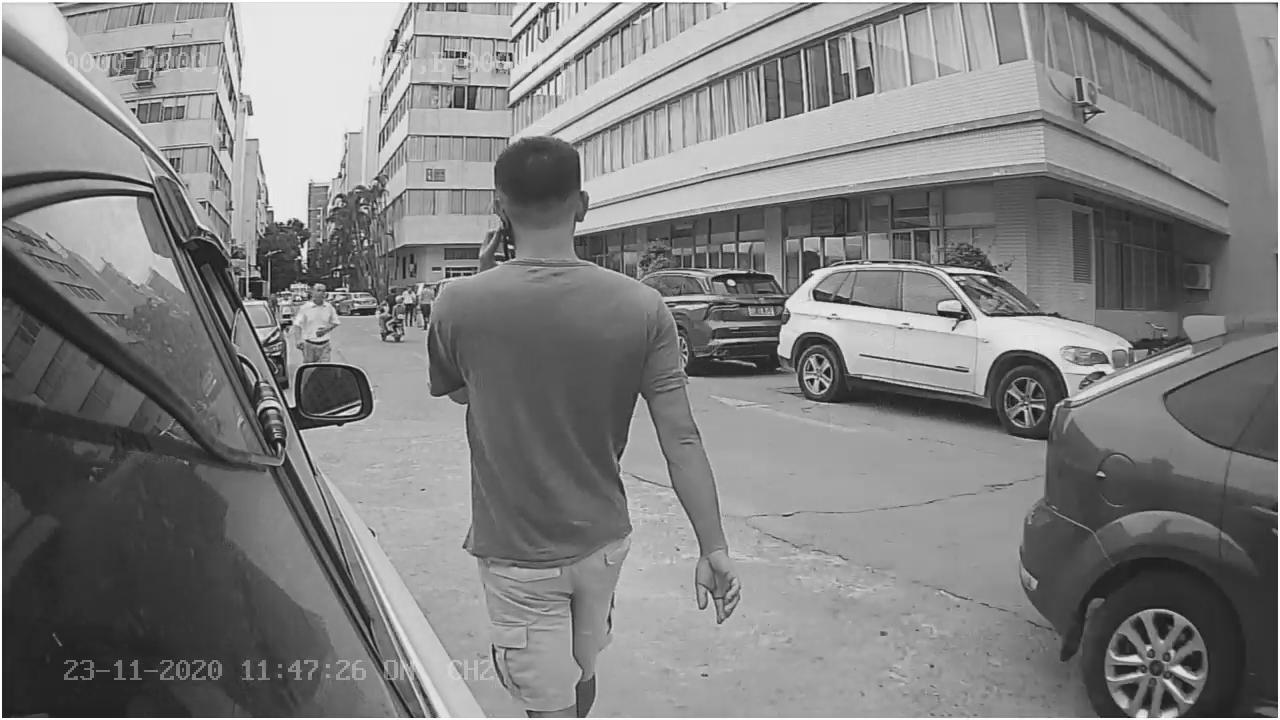person: (417, 127, 744, 620)
